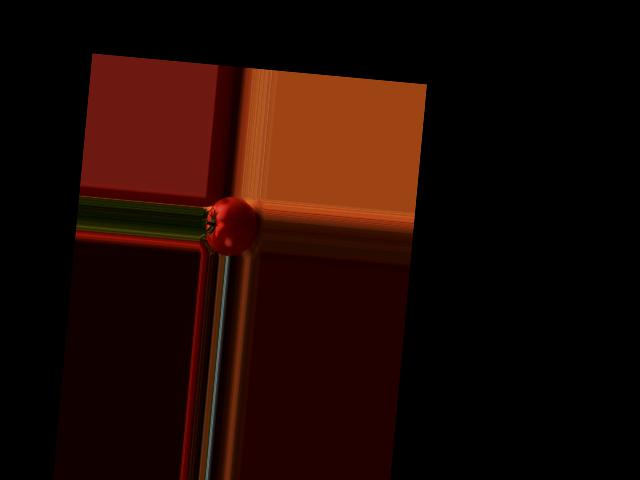tomato: (203, 194, 259, 257)
